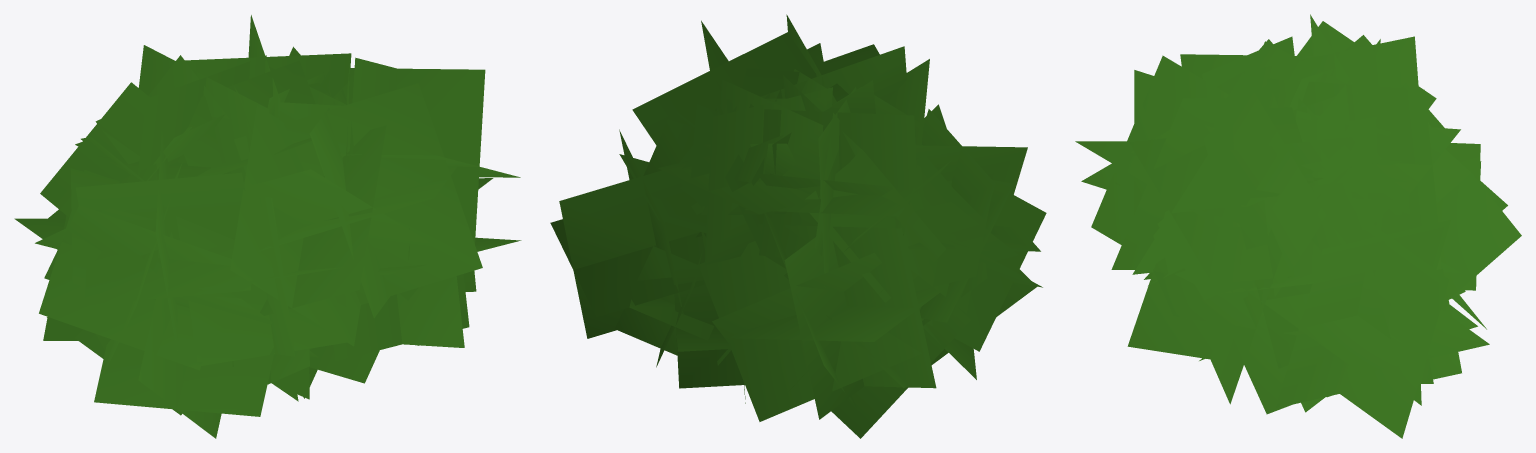
Rendered from SM_bush_03.fbx.
3 renders of one model, left to right at view 1: azimuth 30°, elevation 25°; view 2: azimuth 150°, elevation 25°; view 3: azimuth 270°, elevation 25°, orthographic. The views are drawn at different scales.
Parts seen in each view (by area): view 1: bush_03; view 2: bush_03; view 3: bush_03.
Boxes of the visible parts, left/top/right/bottom form: bush_03: left=14, top=15, right=521, bottom=438; bush_03: left=550, top=14, right=1046, bottom=438; bush_03: left=1075, top=14, right=1521, bottom=438.
Bounding box in the file's own units: 801 × 553 × 642.
